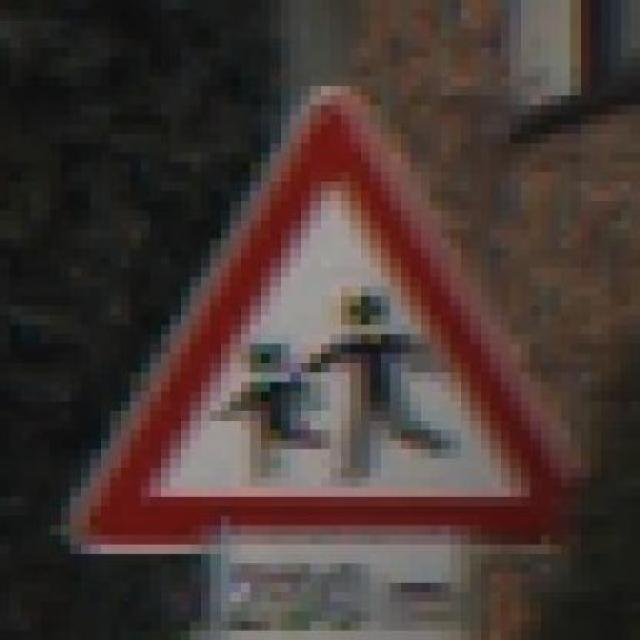Beware of children: (50, 57, 610, 574)
